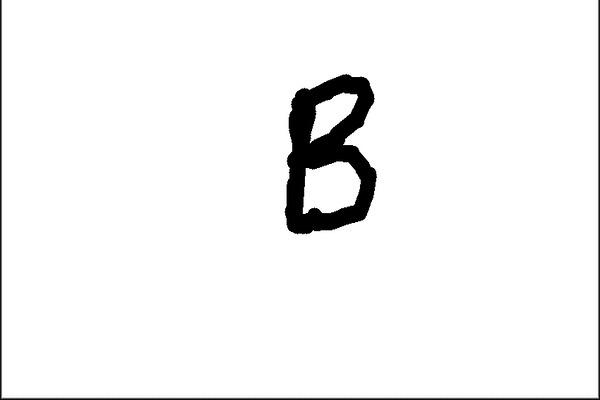B: (275, 64, 385, 245)
